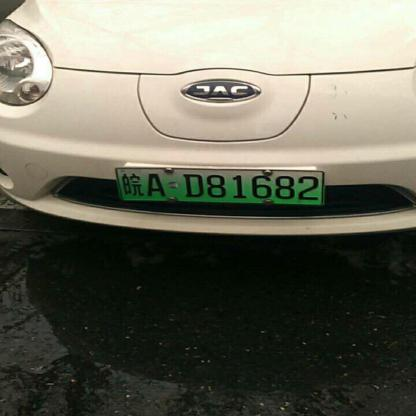lp: (115, 168, 324, 204)
